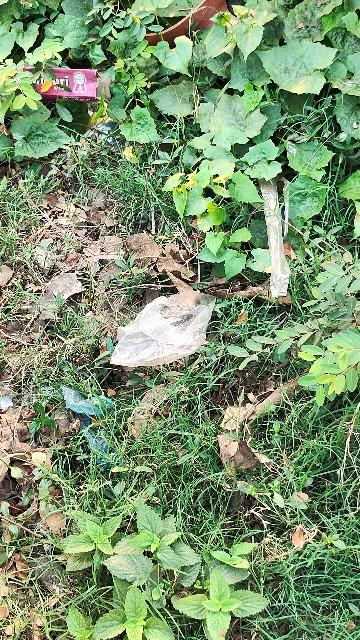polythene: (105, 280, 228, 374)
